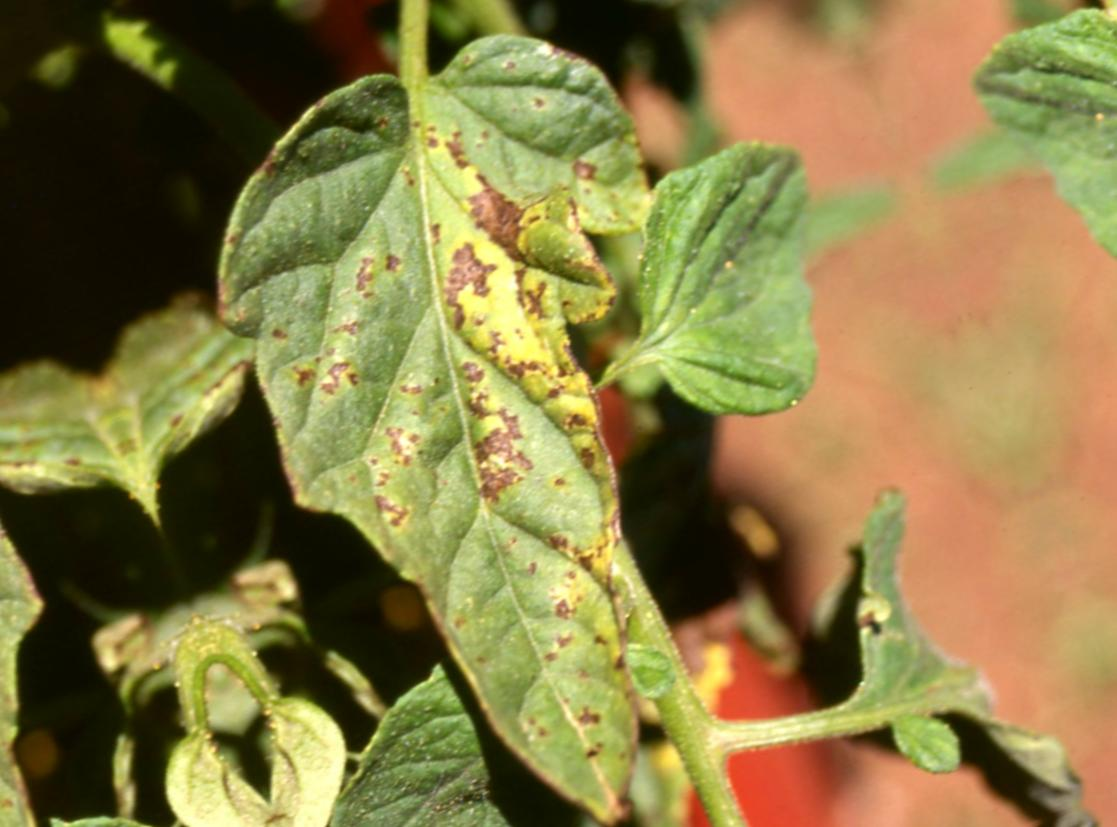Tomato leaf bacterial spot: (140, 0, 878, 827), (531, 75, 934, 484)
